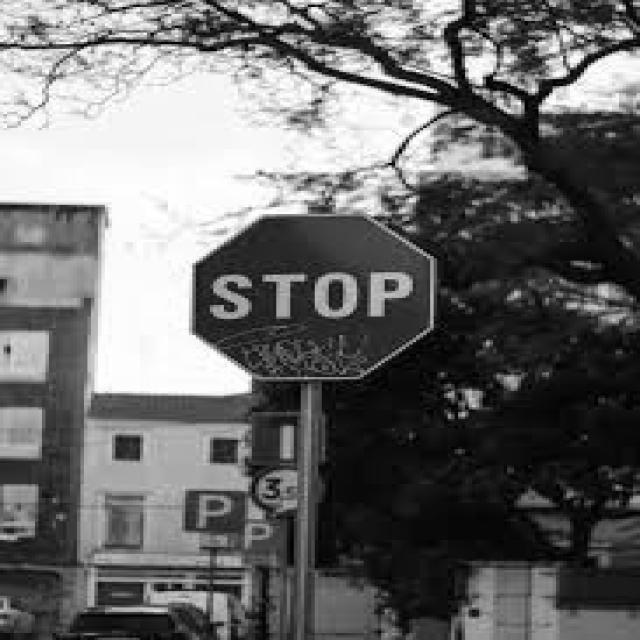stop sign: (190, 216, 432, 383)
